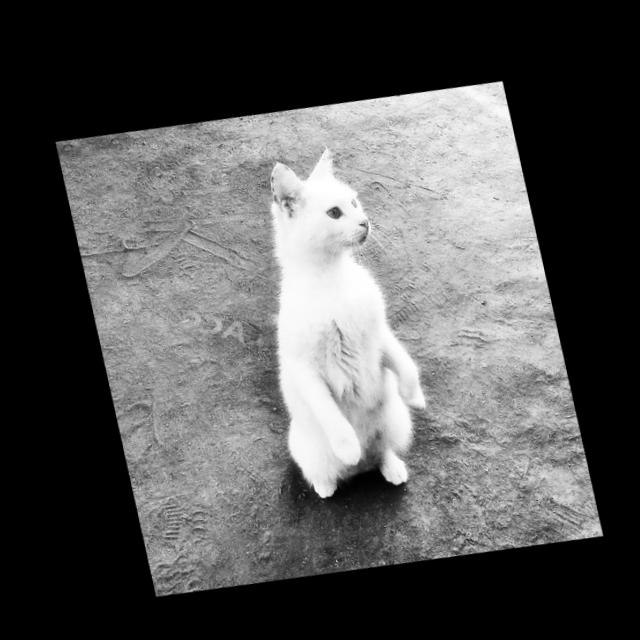animals: (224, 130, 442, 505)
